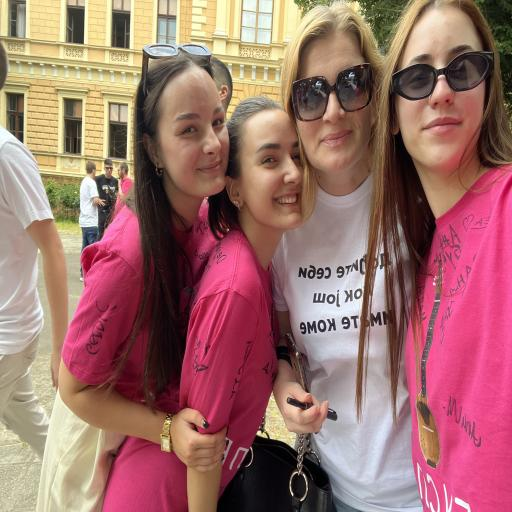marija: (138, 65, 226, 194)
masa: (397, 0, 488, 166)
